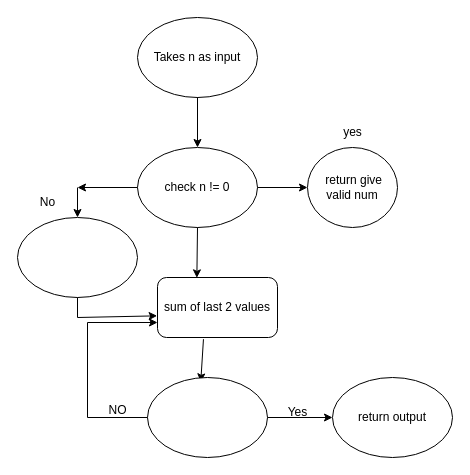
The diagram is 470 pixels wide and 475 high, and some of its shapes have lost their labels. The centre of each missing label's shape, as x and y in pixels:
is n == num of items: [207,417]
move forward: [77,257]
